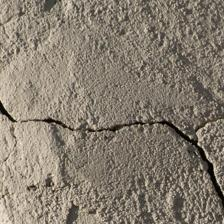Crack: (54, 61, 123, 163), (158, 12, 194, 91)
